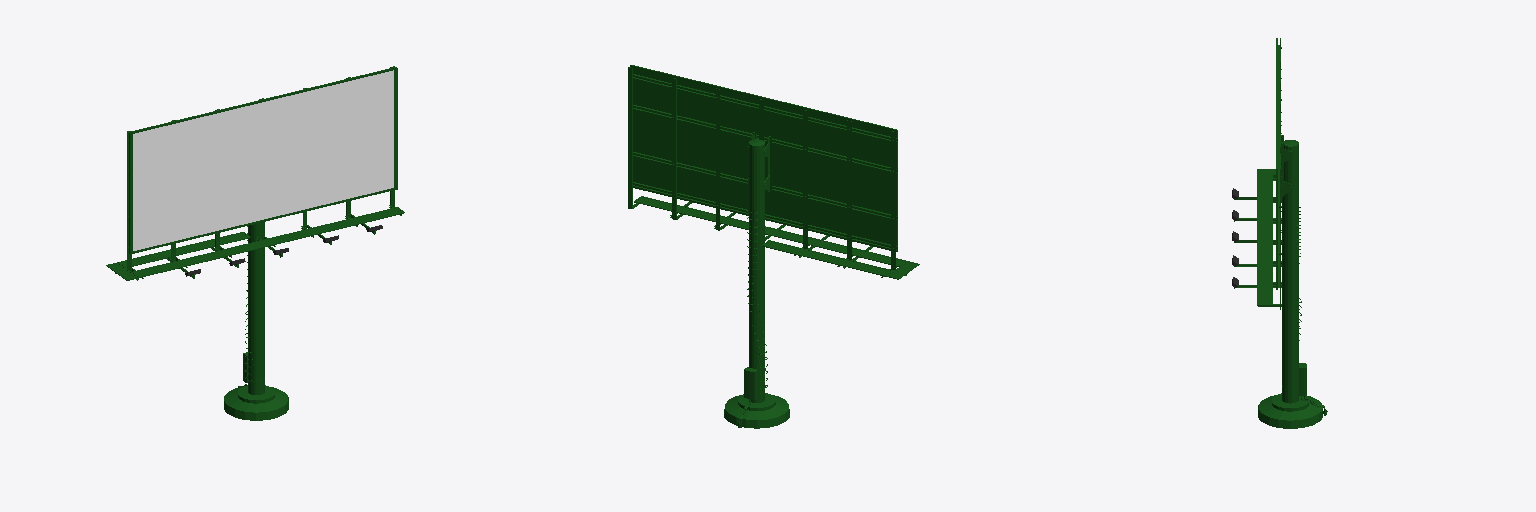
File: Billboard.obj
3 views of the same model, side by side, from view 1: azimuth 30°, elevation 25°; view 2: azimuth 150°, elevation 25°; view 3: azimuth 270°, elevation 25° (orthographic).
Parts seen in each view (by area): view 1: Billboard_A; view 2: Billboard_A; view 3: Billboard_A.
Part boxes in pixels (bbox=[...]): Billboard_A: bbox=[106, 66, 404, 420]; Billboard_A: bbox=[628, 65, 919, 428]; Billboard_A: bbox=[1232, 38, 1327, 428].
Bounding box in the file's own units: 218 × 232 × 64.25.